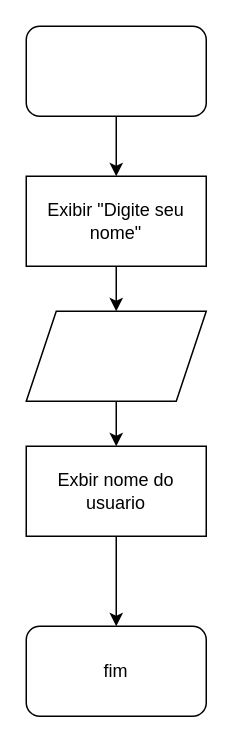
The diagram is 233 pixels wide and 743 high, and some of its shapes have lost their labels. The shapes that lost their labels are listed below. From the top down, each one's centre as x and y in pixels, then its label:
At [115,70]: "inicio".
At [115,355]: "Leia nome do usuario".
